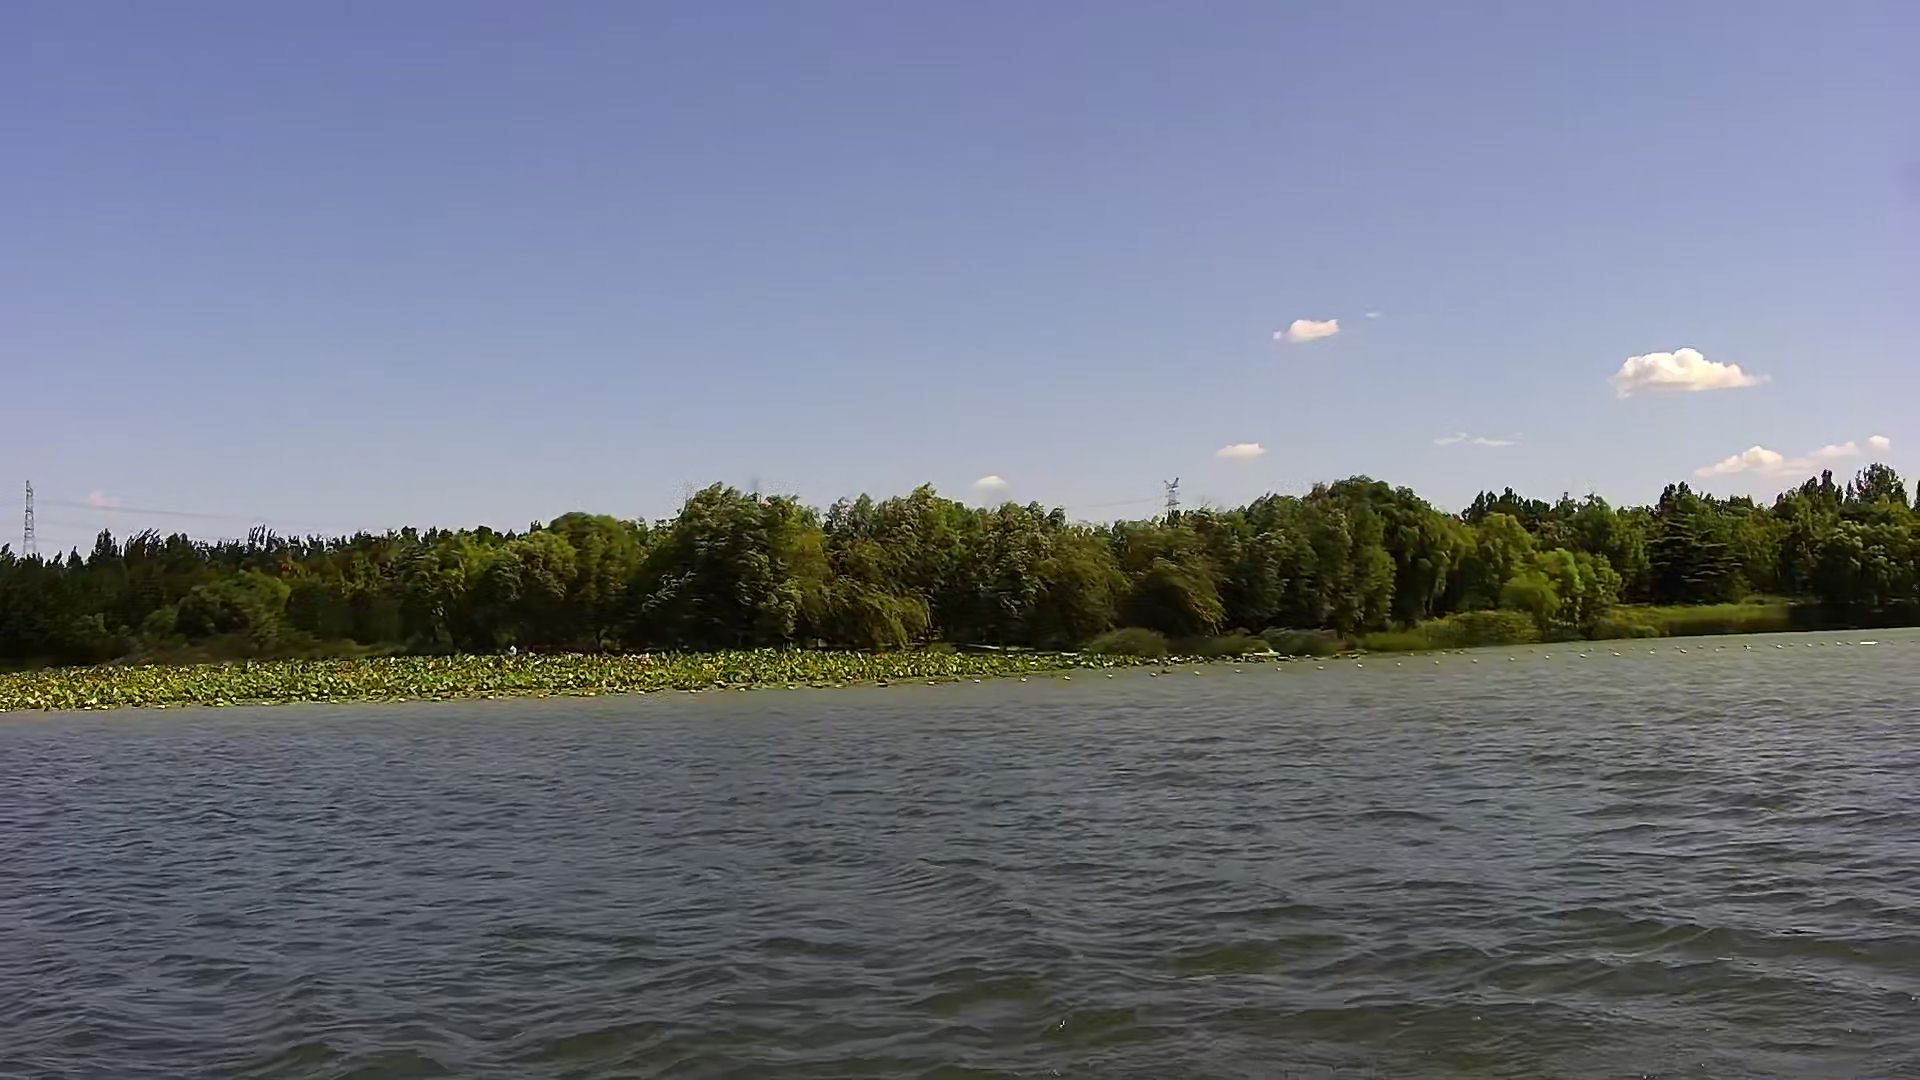grass: (1, 651, 1030, 711)
